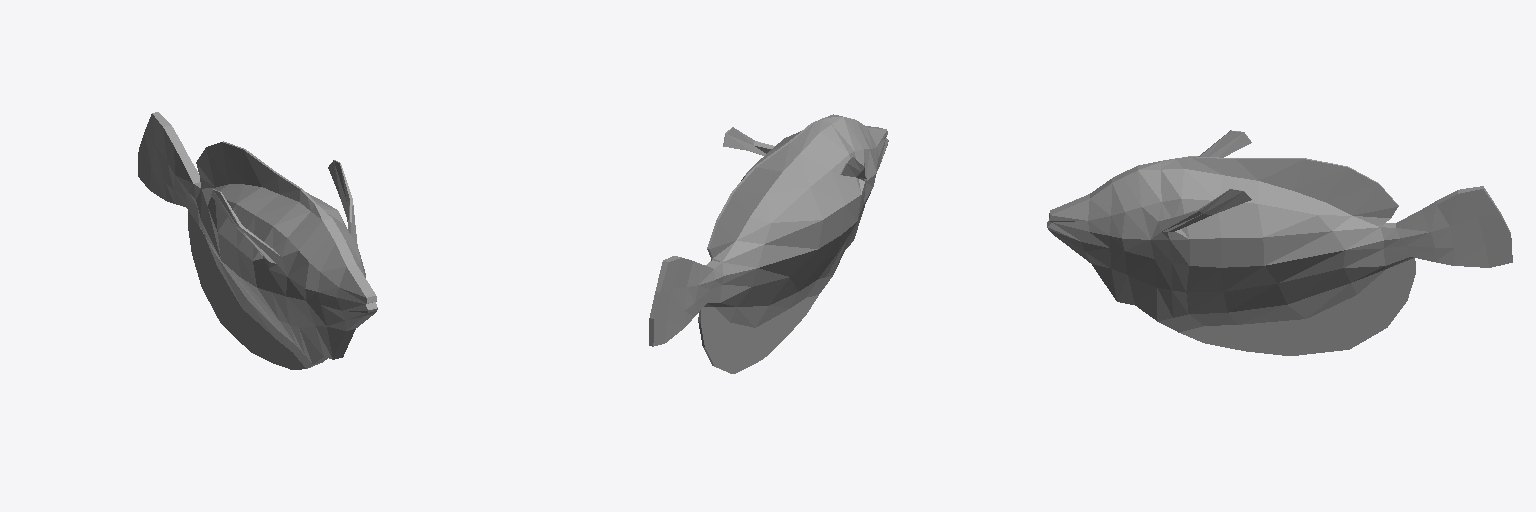
File: TropicalFish08.obj
3 renders of one model, left to right at view 1: azimuth 30°, elevation 25°; view 2: azimuth 150°, elevation 25°; view 3: azimuth 270°, elevation 25°, orthographic.
Parts seen in each view (by area): view 1: TropicalFish08; view 2: TropicalFish08; view 3: TropicalFish08.
Boxes of the visible parts, x1,y1,x2,y2 form: TropicalFish08: [138, 112, 377, 369]; TropicalFish08: [649, 114, 888, 373]; TropicalFish08: [1047, 130, 1512, 355].
Bounding box in the file's own units: 147 × 230 × 486.